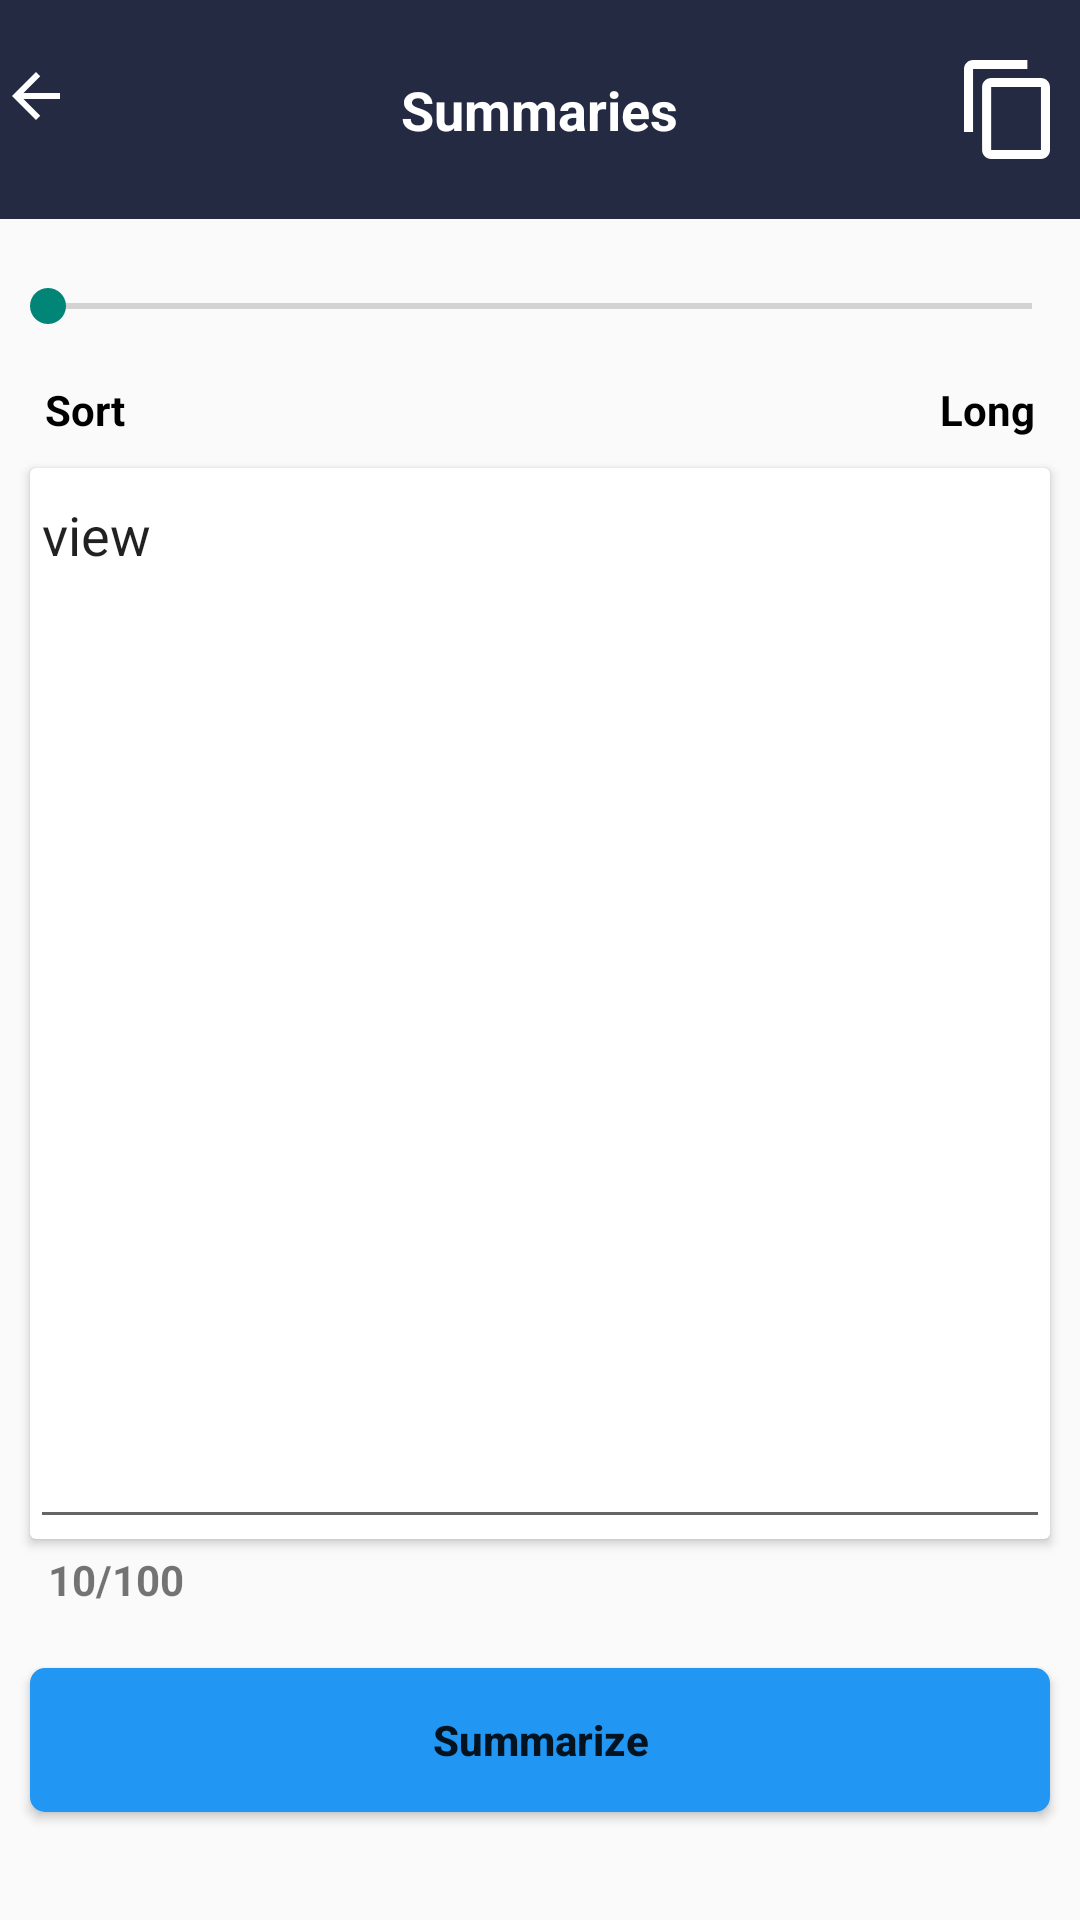

Named icons in this screenshot (1080 x 1920) and their centers, (x,y):
arrow back: (36,96)
